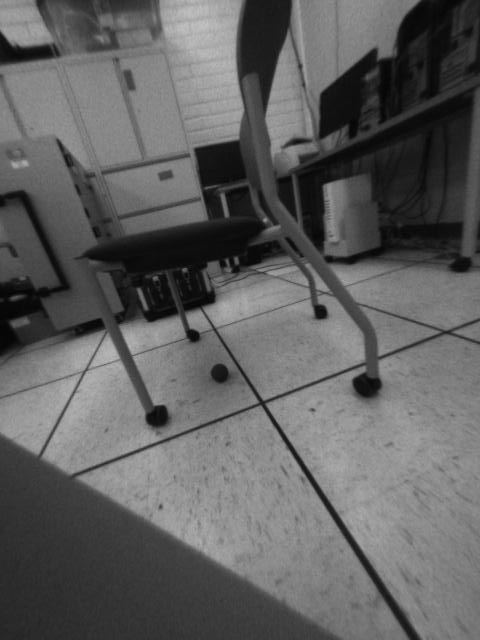dogtoy: (208, 358, 237, 388)
